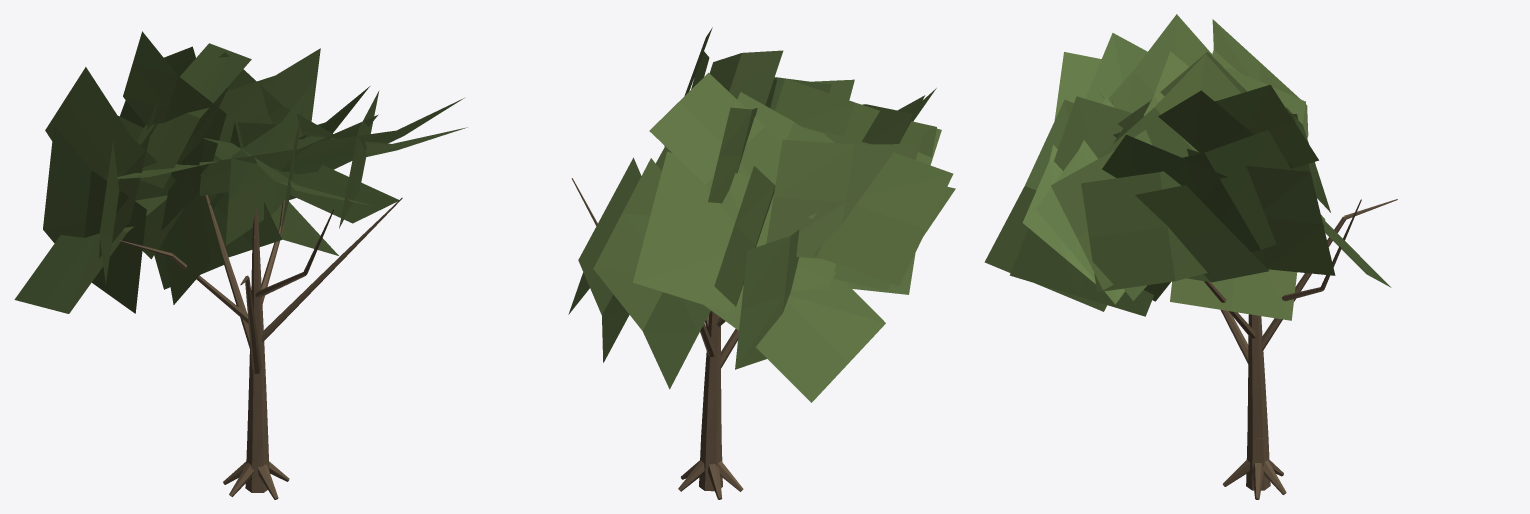
Rendered from ancient_gnarled_tree.glb.
3 views of the same model, side by side, from view 1: azimuth 30°, elevation 25°; view 2: azimuth 150°, elevation 25°; view 3: azimuth 270°, elevation 25° (orthographic). The views are drawn at different scales.
Visible parts, largest first — view 1: world-scenery/ancient_gnarled_tree; view 2: world-scenery/ancient_gnarled_tree; view 3: world-scenery/ancient_gnarled_tree.
Boxes of the visible parts, <box> form: world-scenery/ancient_gnarled_tree: <box>14,31,467,499</box>; world-scenery/ancient_gnarled_tree: <box>568,27,955,499</box>; world-scenery/ancient_gnarled_tree: <box>984,14,1397,499</box>.
Size of the model in its own units: 6.85 by 6.97 by 7.51.
